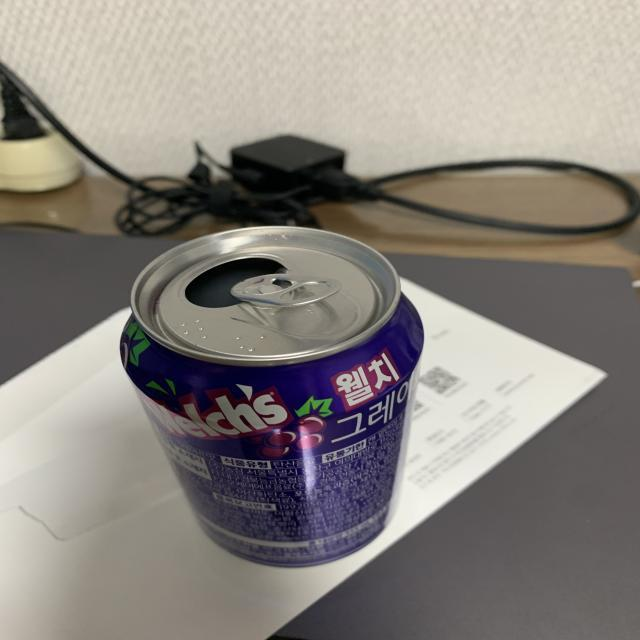metal-can: (120, 224, 436, 573)
